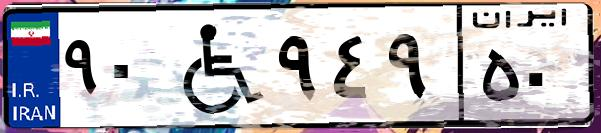0: (525, 38, 570, 115), (110, 28, 158, 98)
4: (330, 28, 385, 110)
5: (475, 38, 525, 113)
9: (270, 28, 330, 110), (385, 28, 445, 110), (57, 26, 110, 100)
ژ (معلولین و جانبازان): (158, 12, 270, 120)
